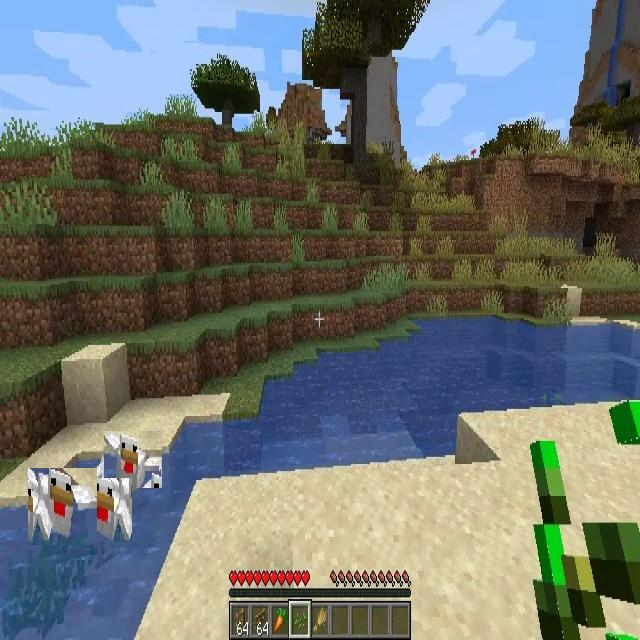duck: (28, 468, 97, 545), (74, 478, 132, 542), (104, 431, 162, 488)
